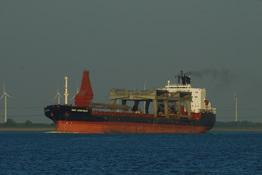Cargoship: (43, 69, 218, 134)
